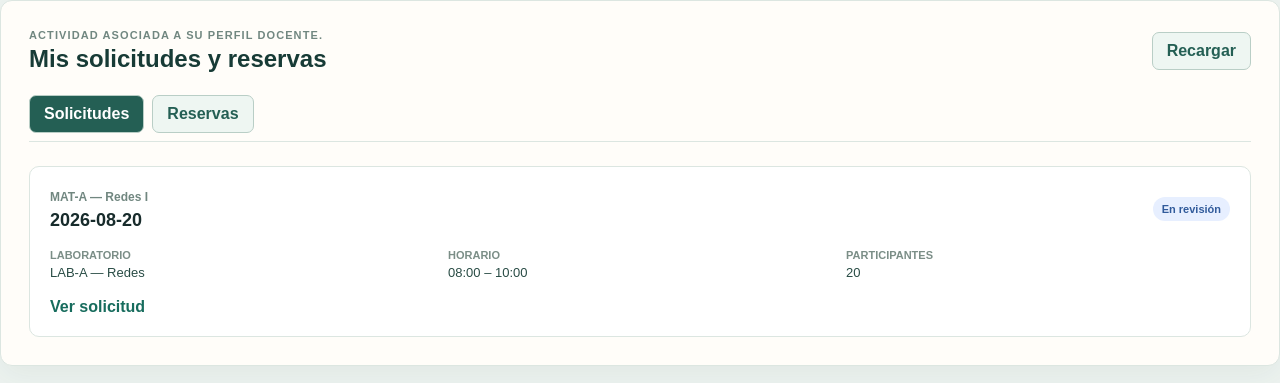
ReservasListPage › permite cambiar al tab de reservas
Check: the text "MAT-A — Redes I" is shown, box [50,190,148,204]
Step 1. Click the tab "Reservas" → (203, 114), box [152,95,254,133]
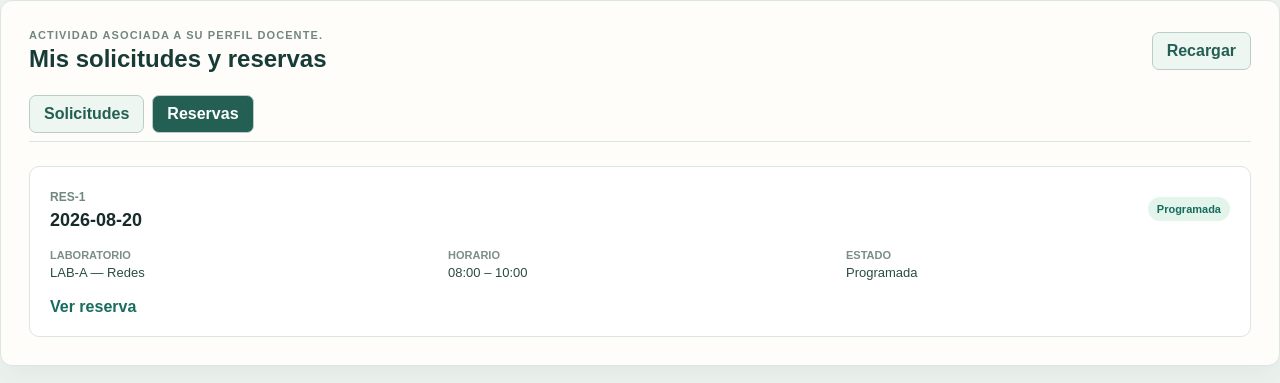
Check: the text "Programada" is shown 2 times, box [1148,197,1230,221]; [846,265,918,280]
Check: the text "RES-1" is shown, box [50,190,85,204]
